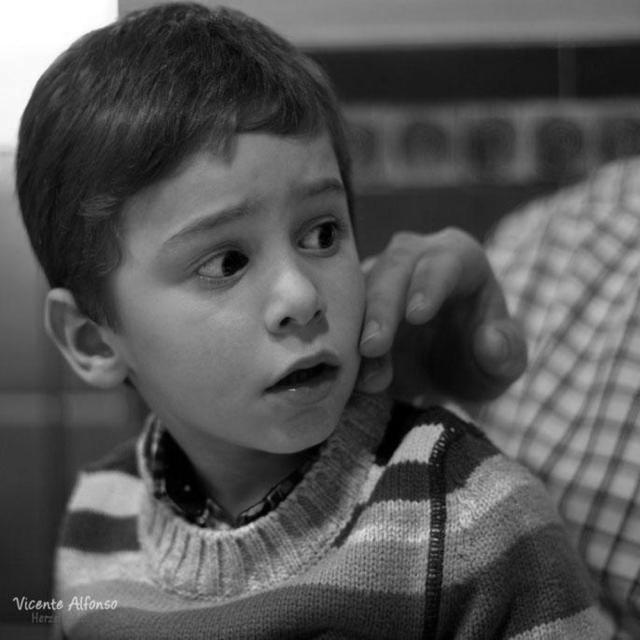real: (100, 134, 363, 460), (166, 202, 352, 294)
